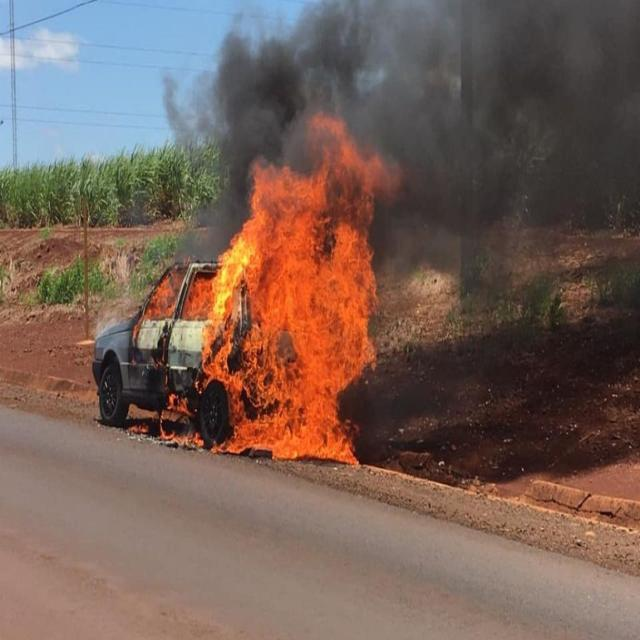fire: (244, 149, 370, 465), (152, 262, 241, 460)
smoke: (382, 2, 637, 276), (164, 6, 378, 137)
